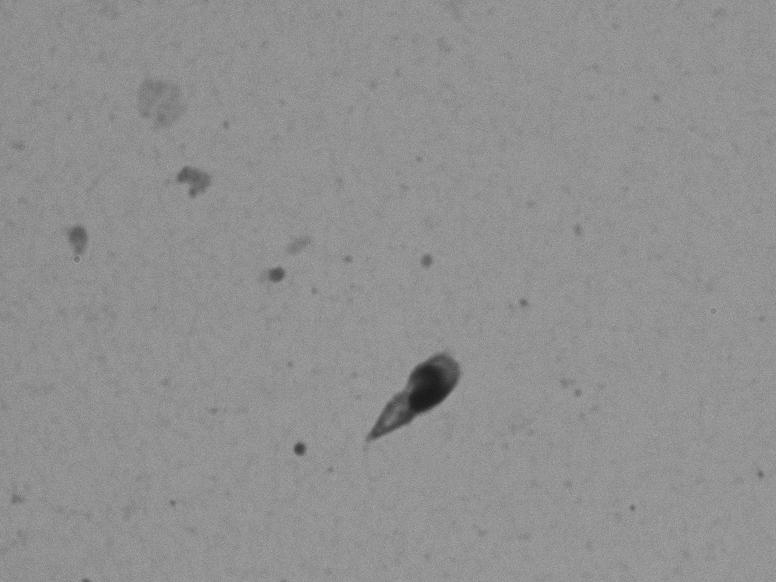Abnormal: (333, 343, 500, 483)
